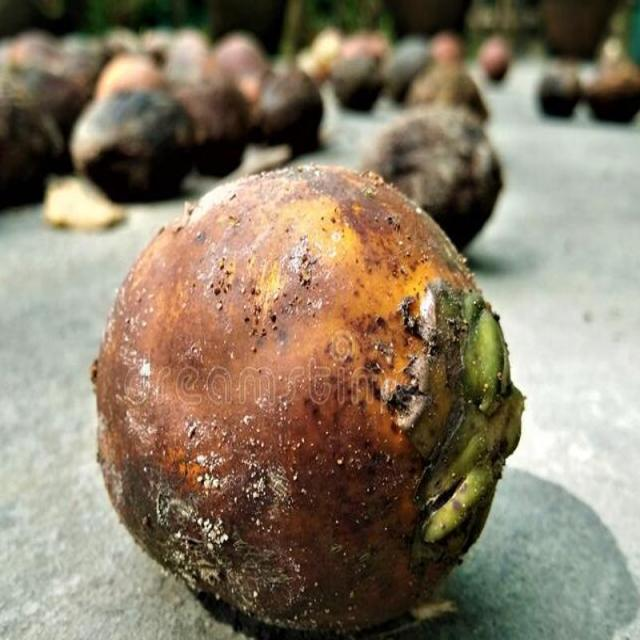damaged: (93, 166, 526, 639)
